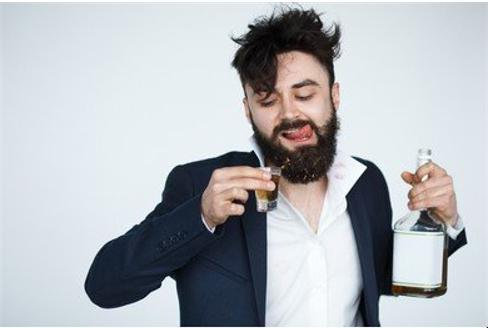Drunk: (242, 62, 341, 162)
